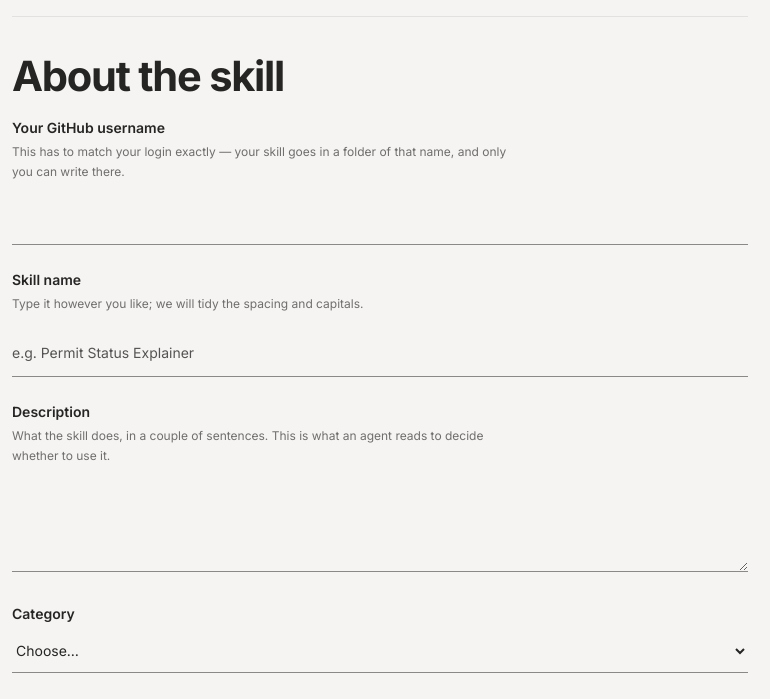
Test: S-13: errors wait for a touch or a hand-off › shows a field's own error once it has been touched and left
(page scrolled)
Click the field labelled "Skill name" at (380, 353), box [12,330,748,377]
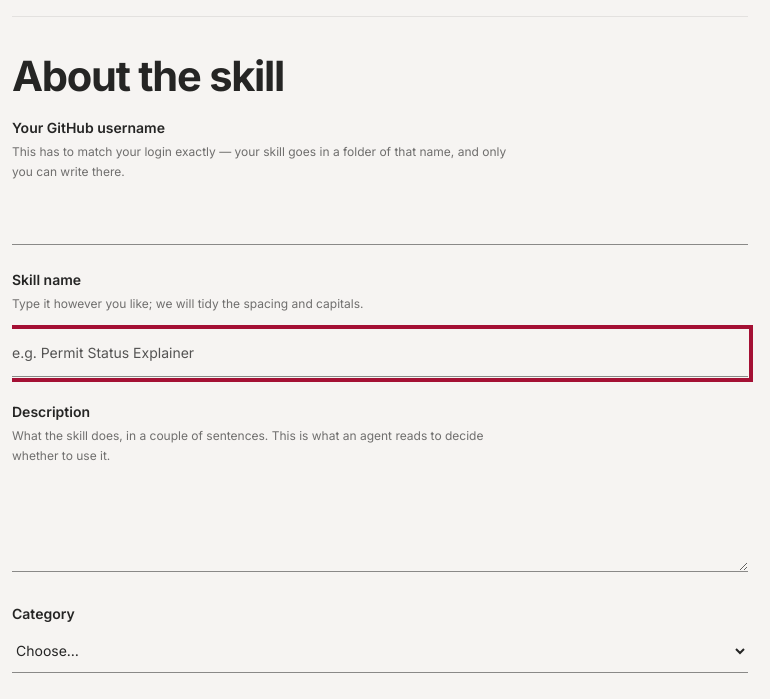
Press Tab
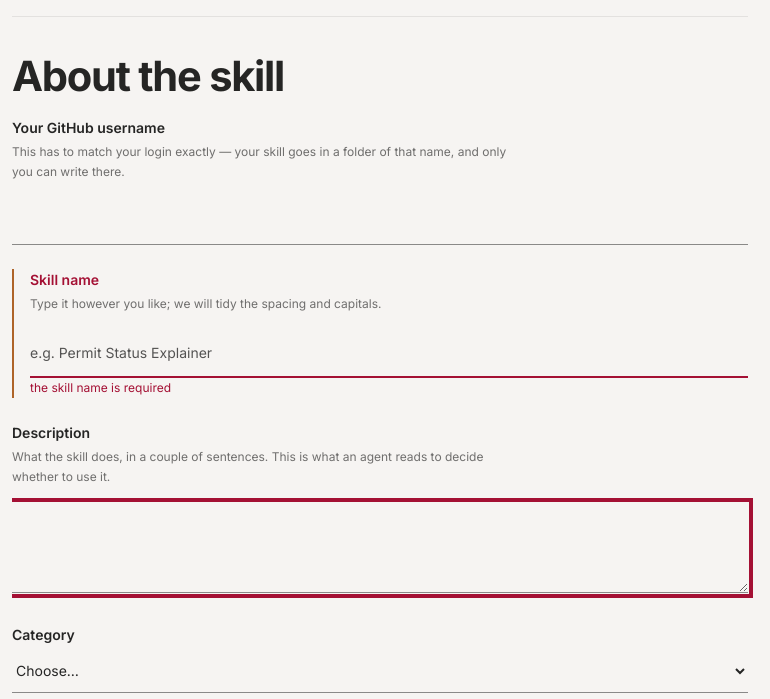
Expected: the element labelled "Skill name" shows "skill name is required", [30,380,171,395]
Expected: the text "the skill name is required" is shown once, [30,380,171,395]
